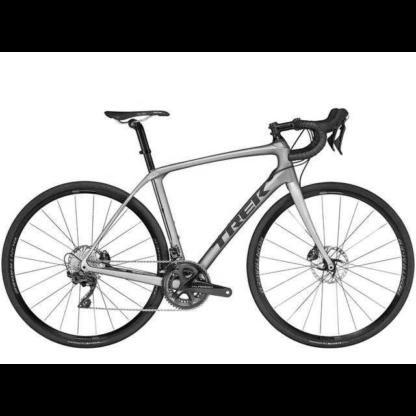Bicycle: (0, 92, 415, 360)
